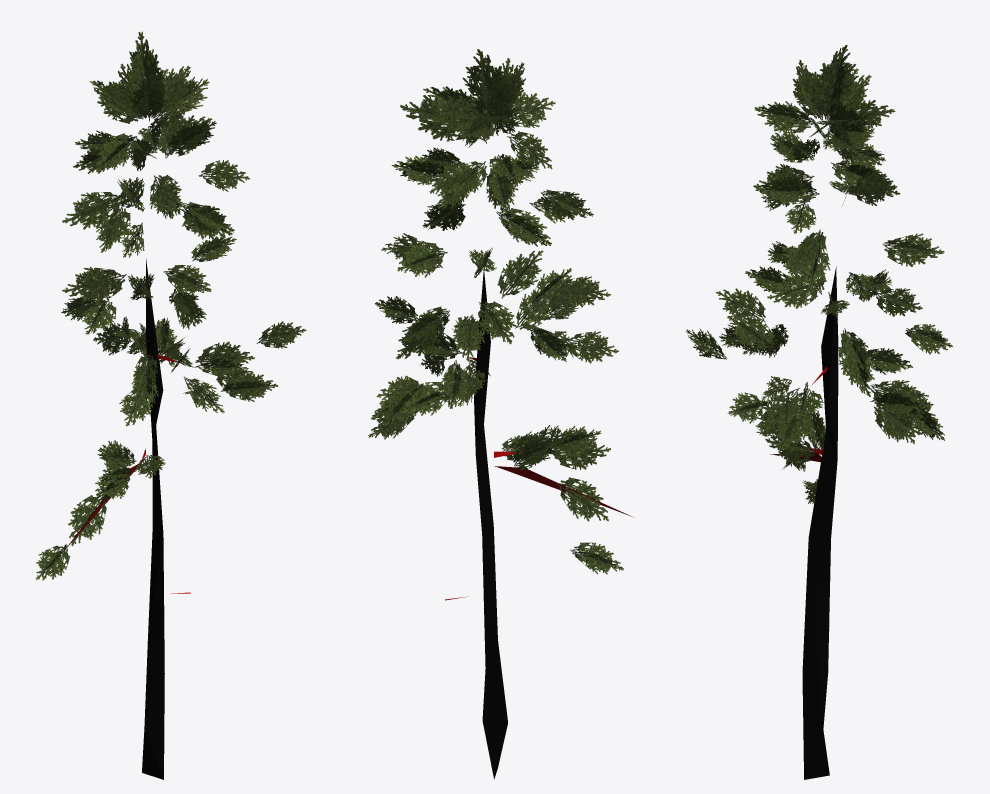
Rendered from pine2 lod4.FBX.
3 views of the same model, side by side, from view 1: azimuth 30°, elevation 25°; view 2: azimuth 150°, elevation 25°; view 3: azimuth 270°, elevation 25° (orthographic).
Parts seen in each view (by area): view 1: pine2_LOD005; view 2: pine2_LOD005; view 3: pine2_LOD005.
Part boxes in pixels (<box>): pine2_LOD005: <box>35,31,306,779</box>; pine2_LOD005: <box>368,49,634,779</box>; pine2_LOD005: <box>685,45,952,779</box>.
Bounding box in the file's own units: 107981 × 272968 × 102229.
